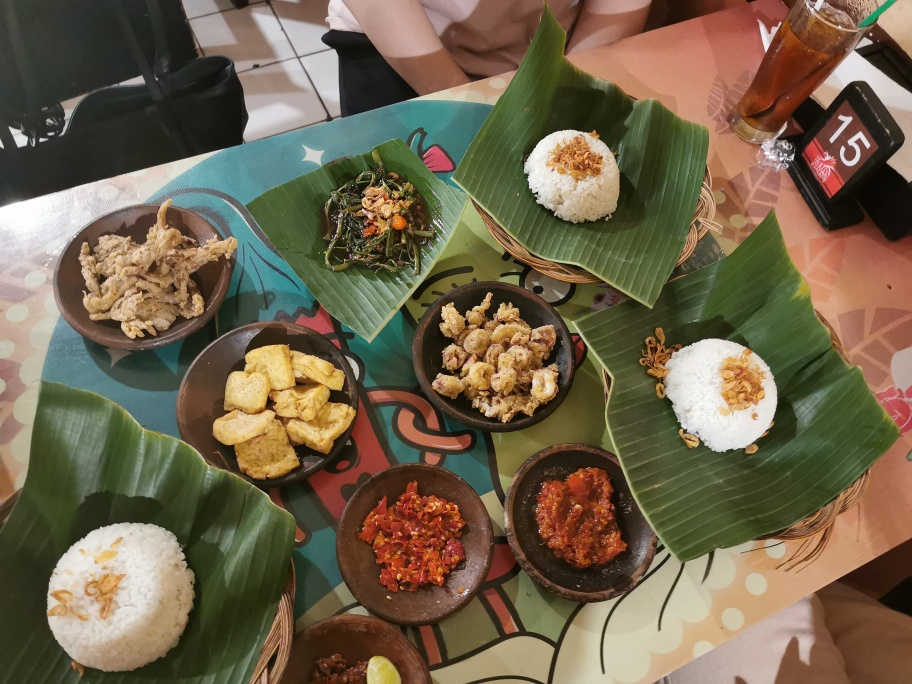nasi putih: (45, 520, 197, 673), (650, 325, 785, 458), (518, 119, 626, 227)
